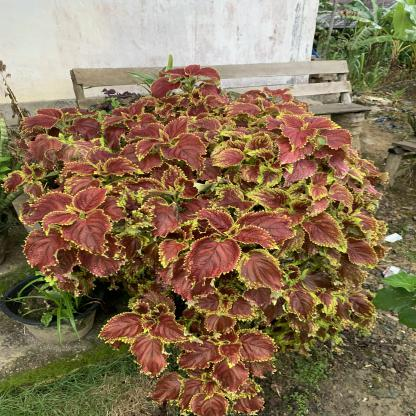Bunga Coleus: (34, 90, 367, 402)
